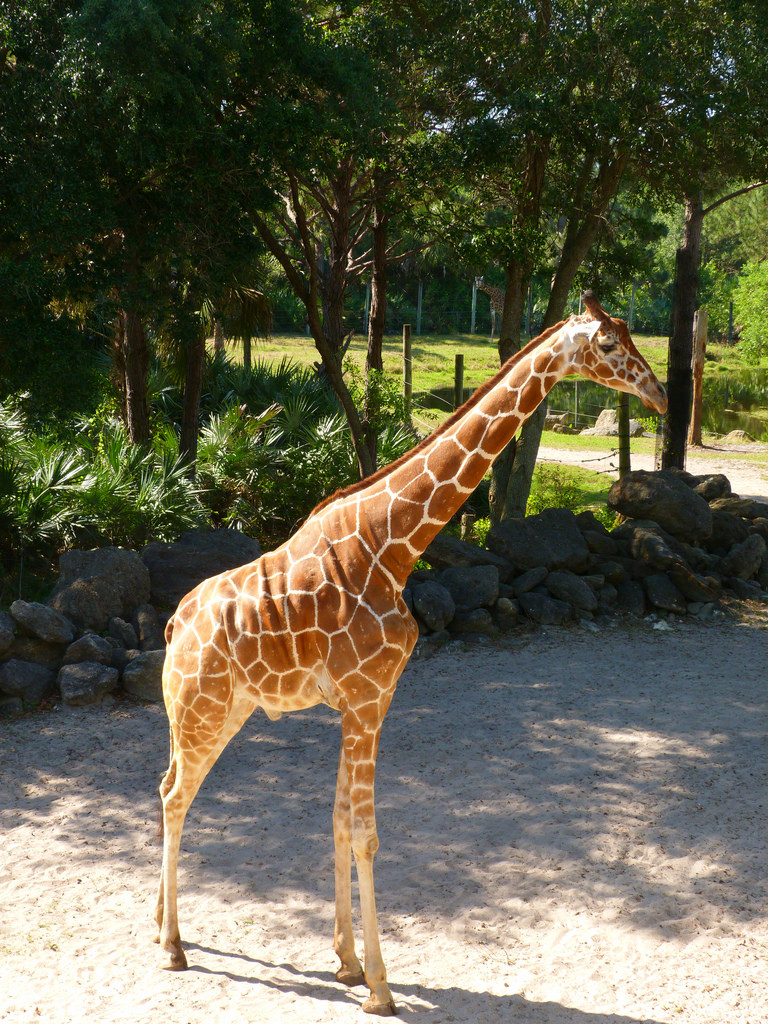giraffe: (125, 275, 676, 970)
